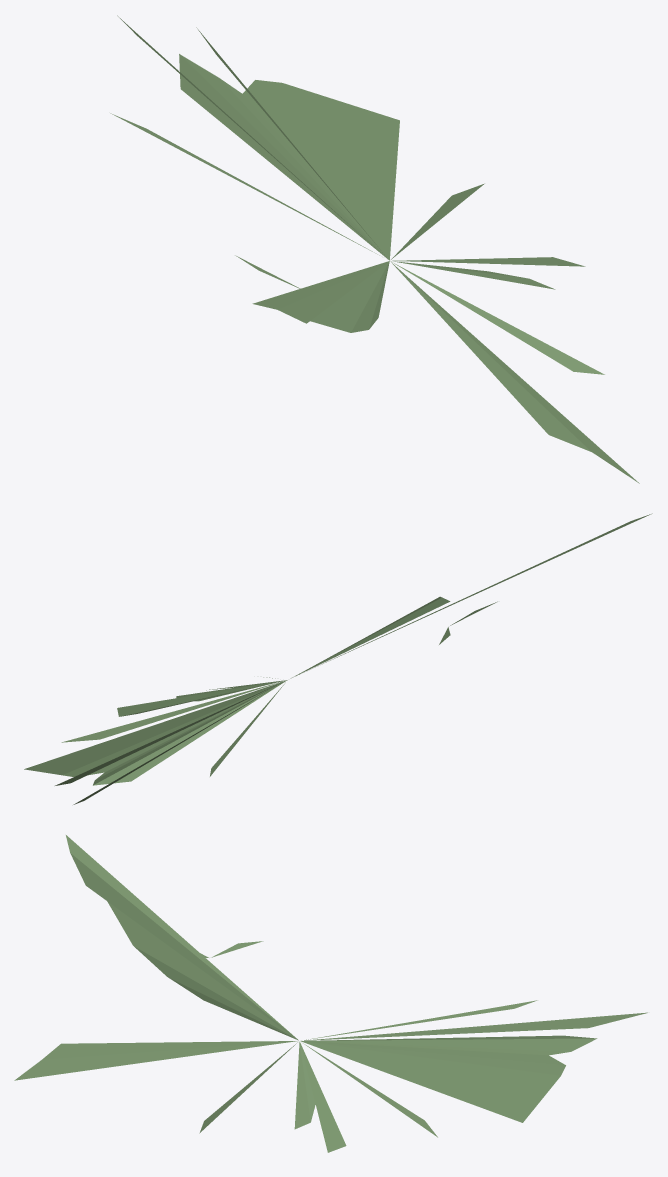
The model's file is c_1665_17816_parks.glb.
3 views of the same model, one above another, from view 1: azimuth 30°, elevation 25°; view 2: azimuth 150°, elevation 25°; view 3: azimuth 270°, elevation 25° (orthographic). The views are drawn at different scales.
Visible parts, largest first — view 1: geometry_0; view 2: geometry_0; view 3: geometry_0.
Part boxes in pixels (box(x1,y1,x2,y2)): geometry_0: box(110, 15, 639, 483); geometry_0: box(24, 513, 652, 804); geometry_0: box(14, 835, 647, 1152).
Size of the model in its own units: 262 by 108 by 388.
